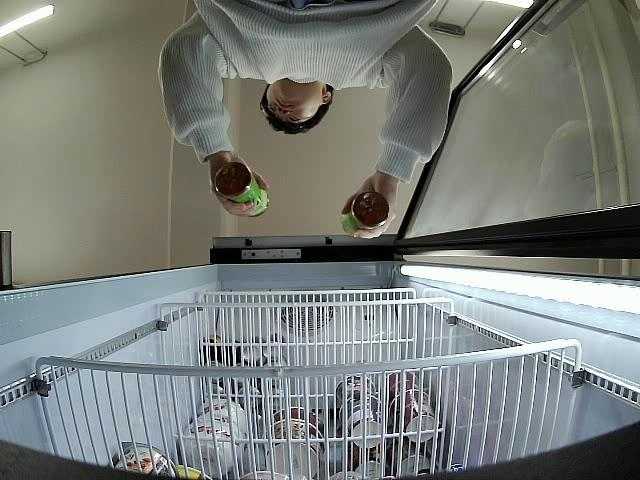19_17cha: (213, 158, 271, 218), (342, 192, 390, 236)
